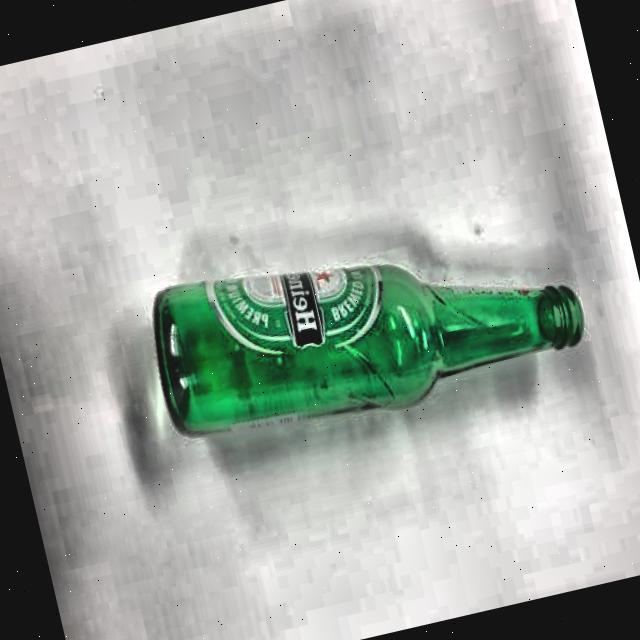glass: (140, 201, 594, 463)
